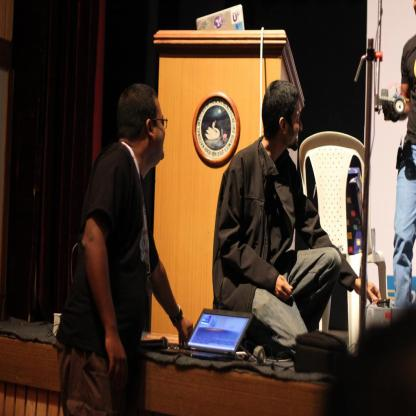board: (161, 310, 253, 359), (197, 3, 246, 30)
